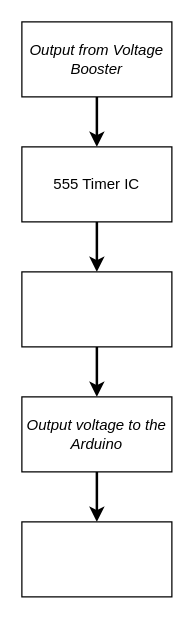
Image size: 194x619. Some labels were removed from this diagram. The centre of each missing label's shape, as x and y in pixels:
"Arduino" goes at [96,559].
"Relay" goes at [96,309].
